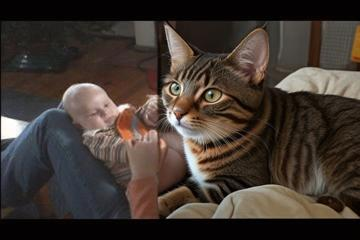cat: (157, 21, 360, 223)
person: (3, 65, 354, 221), (60, 83, 214, 213)
person/foot: (167, 191, 200, 214), (194, 160, 215, 182)
person/hand: (124, 133, 166, 175), (148, 97, 190, 132), (147, 100, 166, 116)
person/head: (236, 64, 356, 163), (61, 83, 121, 130)
